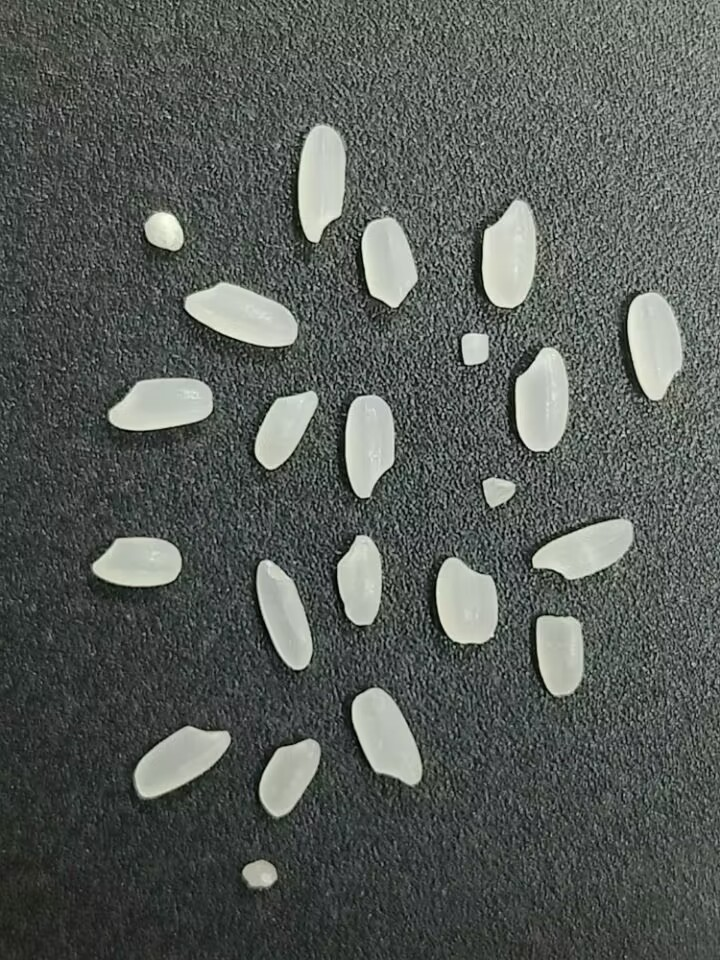broken: (535, 614, 585, 696), (138, 205, 189, 254), (451, 331, 500, 370), (475, 472, 521, 511), (240, 857, 279, 893)
rice: (172, 277, 304, 357), (347, 681, 426, 789), (131, 723, 237, 799), (252, 552, 315, 673), (623, 289, 686, 403), (481, 193, 540, 312), (294, 122, 348, 245), (511, 345, 571, 454), (531, 518, 635, 580), (105, 376, 215, 431), (249, 388, 320, 473), (257, 737, 326, 824), (344, 389, 396, 503), (359, 214, 417, 312), (436, 556, 498, 644), (89, 533, 185, 589), (333, 532, 385, 626)
